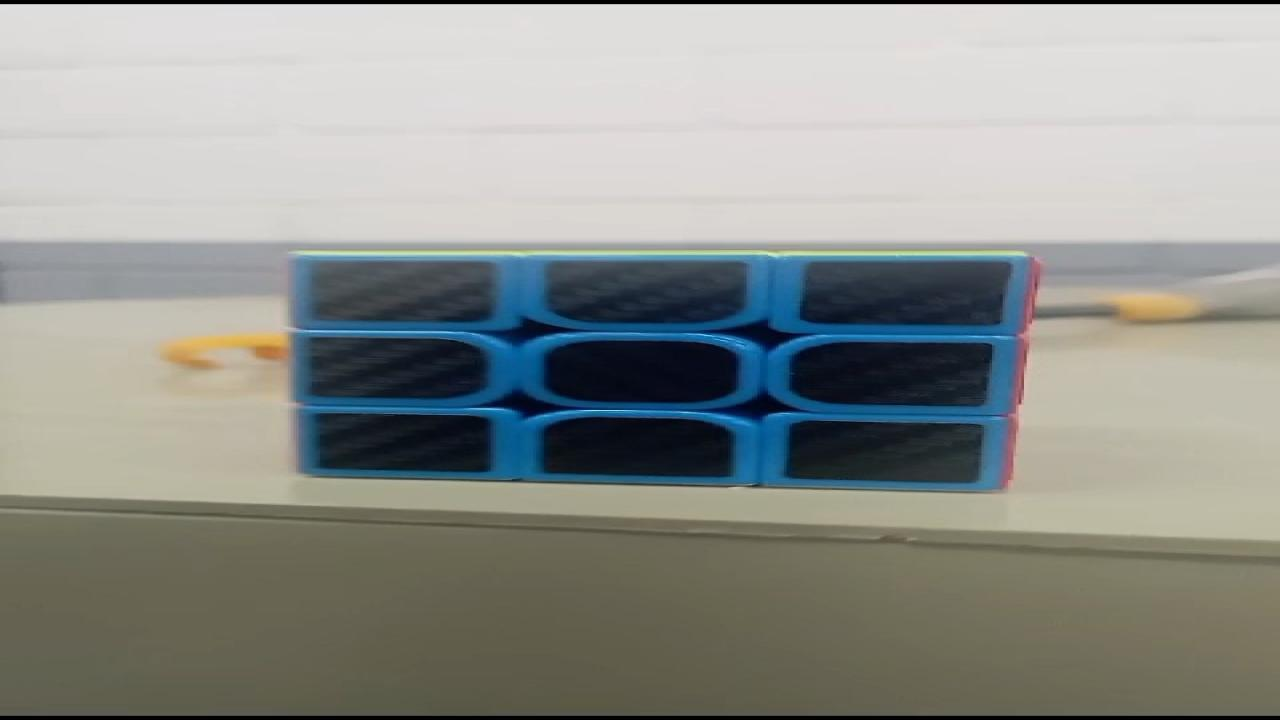Cube: (281, 247, 1042, 492)
